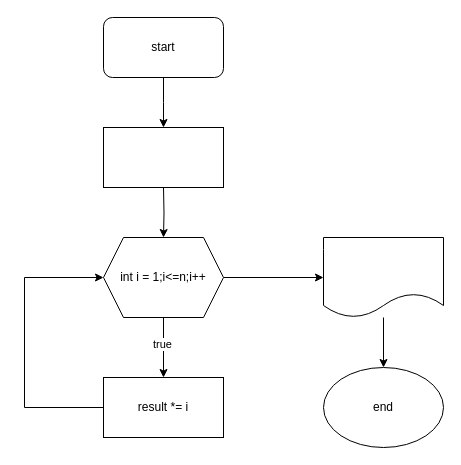
This 461x465 diagram has some shape labels left out. The box of each missing label's shape, as (x1, y1, x2, y2) in pixels:
int number, int result = 1;: (102, 126, 224, 188)
print result: (322, 236, 444, 318)
